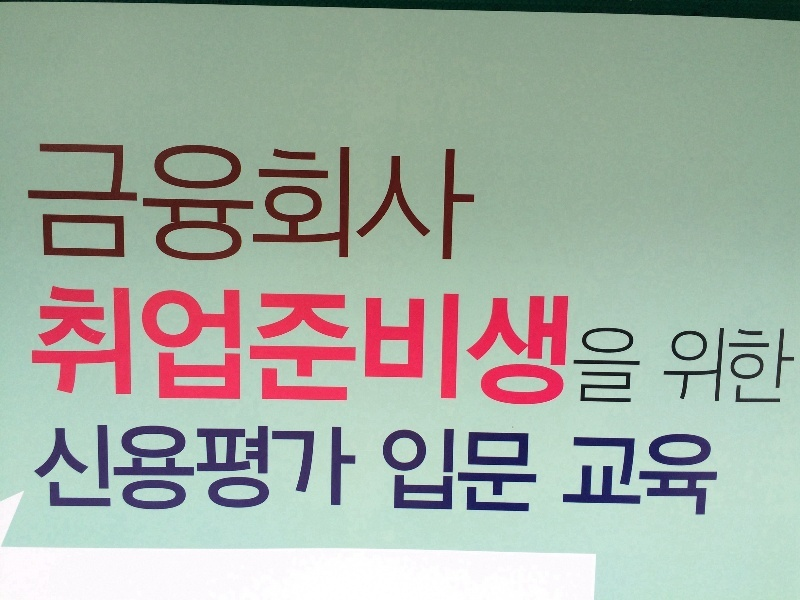text: (49, 286, 64, 414), (65, 286, 80, 414), (81, 286, 96, 414), (97, 286, 112, 414), (113, 286, 128, 414), (129, 286, 144, 414), (145, 286, 160, 414), (161, 286, 176, 414), (177, 286, 192, 414), (193, 286, 208, 414), (209, 286, 224, 414), (225, 286, 240, 414), (241, 286, 256, 414), (257, 286, 272, 414), (273, 286, 288, 414), (289, 286, 304, 414), (305, 286, 320, 414), (321, 286, 336, 414), (337, 286, 352, 414), (353, 286, 368, 414), (369, 286, 384, 414), (385, 286, 400, 414), (401, 286, 416, 414), (417, 286, 432, 414), (433, 286, 448, 414), (449, 286, 464, 414), (465, 286, 480, 414), (481, 286, 496, 414), (497, 286, 512, 414), (513, 286, 528, 414), (529, 286, 544, 414), (545, 286, 560, 414), (49, 145, 64, 262), (65, 145, 80, 262), (81, 145, 96, 262), (97, 145, 112, 262), (113, 145, 128, 262), (129, 145, 144, 262), (145, 145, 160, 262), (161, 145, 176, 262), (177, 145, 192, 262), (193, 145, 208, 262), (209, 145, 224, 262), (225, 145, 240, 262), (241, 145, 256, 262), (257, 145, 272, 262), (273, 145, 288, 262), (289, 145, 304, 262), (305, 145, 320, 262), (321, 145, 336, 262), (337, 145, 352, 262), (353, 145, 368, 262), (369, 145, 384, 262), (385, 145, 400, 262), (401, 145, 416, 262), (417, 145, 432, 262), (433, 145, 448, 262), (449, 145, 464, 262), (33, 427, 48, 513), (49, 427, 64, 513), (65, 427, 80, 513), (81, 427, 96, 513), (97, 427, 112, 513), (113, 427, 128, 513), (129, 427, 144, 513), (145, 427, 160, 513), (161, 427, 176, 513), (177, 427, 192, 513), (193, 427, 208, 513), (209, 427, 224, 513), (225, 427, 240, 513), (241, 427, 256, 513), (257, 427, 272, 513), (273, 427, 288, 513), (289, 427, 304, 513), (305, 427, 320, 513), (321, 427, 336, 513), (337, 427, 352, 513), (465, 145, 476, 262), (401, 429, 416, 513), (417, 429, 432, 513), (433, 429, 448, 513), (449, 429, 464, 513), (465, 429, 480, 513), (481, 429, 496, 513), (497, 429, 512, 513), (513, 429, 528, 513), (577, 433, 592, 516), (593, 433, 608, 516), (609, 433, 624, 516), (625, 433, 640, 516), (641, 433, 656, 516), (657, 433, 672, 516), (673, 433, 688, 516), (689, 433, 704, 516), (705, 433, 720, 516), (561, 286, 570, 414), (593, 328, 608, 404), (609, 328, 624, 404), (625, 328, 640, 404), (689, 330, 704, 406), (705, 330, 720, 406), (721, 330, 736, 406), (737, 330, 752, 406), (753, 330, 768, 406), (769, 330, 784, 406), (387, 429, 400, 513), (674, 330, 688, 406), (785, 330, 799, 406), (40, 145, 48, 262), (529, 429, 539, 513), (641, 328, 652, 404), (353, 427, 361, 513), (43, 286, 48, 414), (585, 328, 592, 404), (573, 433, 576, 516), (721, 433, 724, 516)
